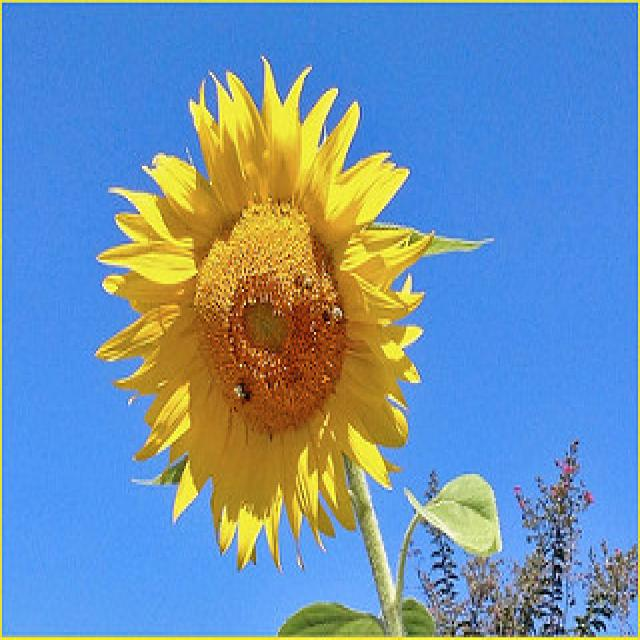sunflower: (97, 60, 481, 568)
